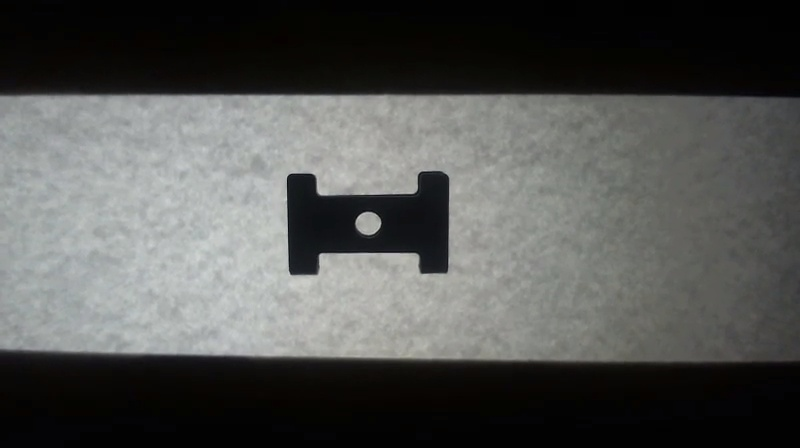O002: (280, 168, 453, 277)
